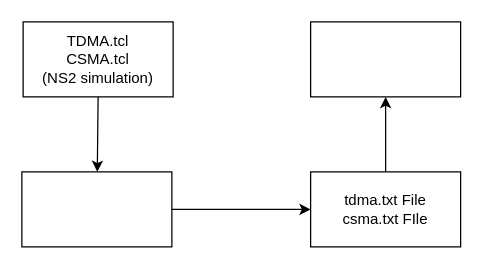
Some shapes in this 483 by 269 pixel diagram are drawn without their labels. The centre of each missing label's shape, as x and y in pixels:
Delay.awk filter out useful data from TDMA.tr and CSMA.tr: (x=96, y=209)
Using X-graph to compare the data from TDMA file and CSMA file: (x=385, y=59)
